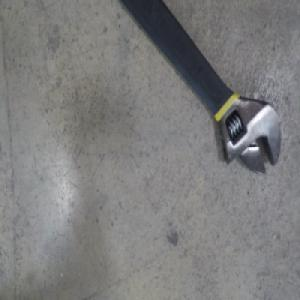AdjustableWrench: (120, 0, 282, 180)
